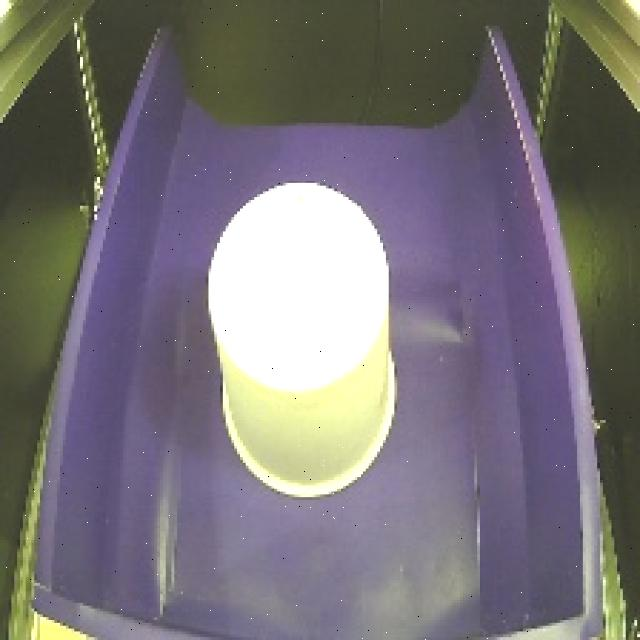cups: (196, 170, 407, 503)
